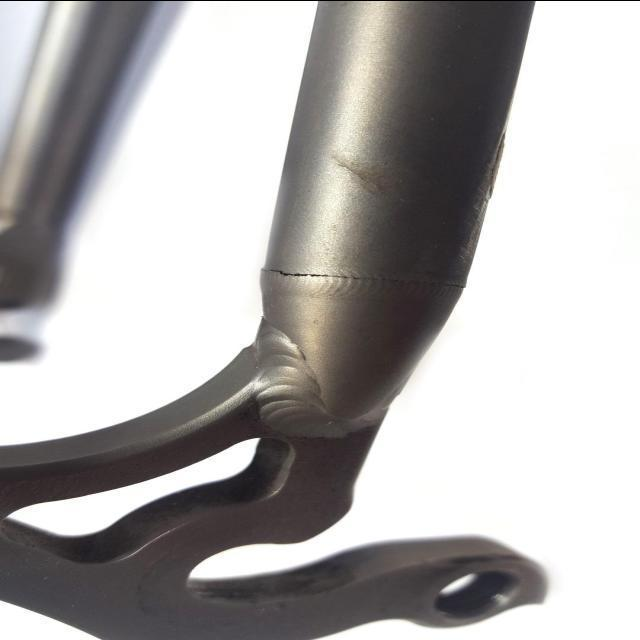Crack: (257, 268, 469, 288)
